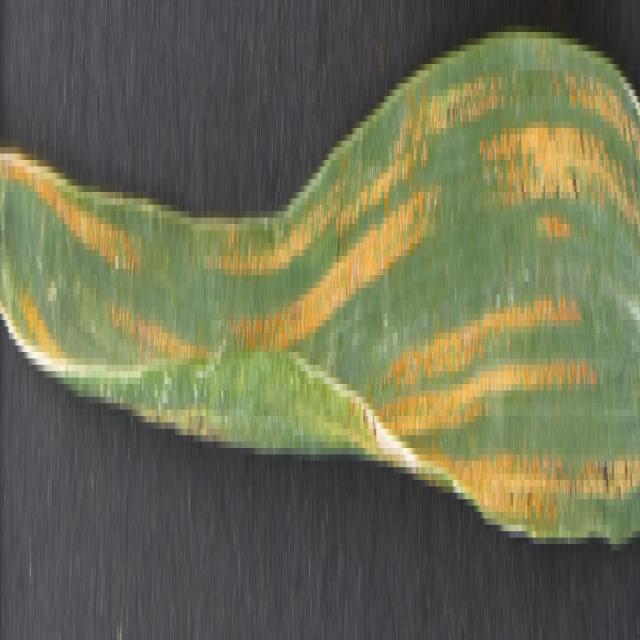leaf rust: (0, 6, 640, 518)
